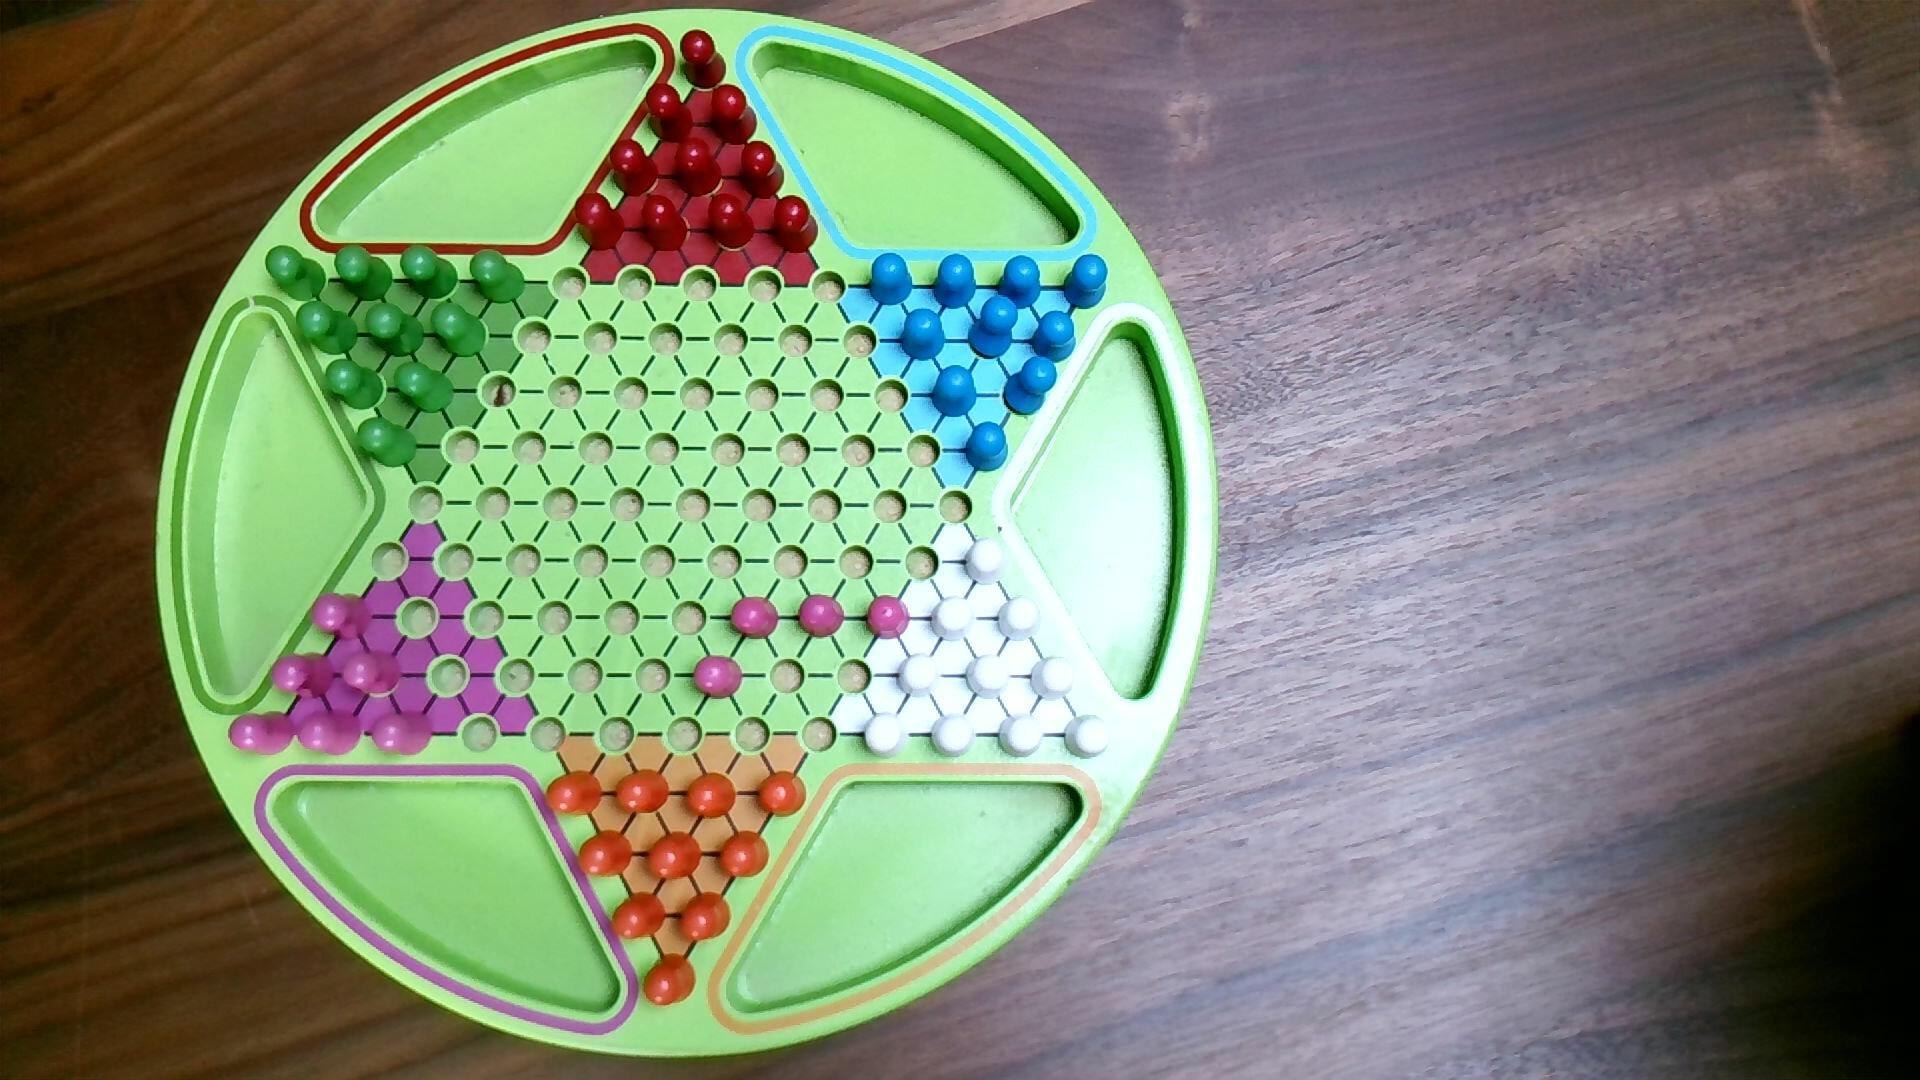B: (1001, 355, 1060, 418), (965, 294, 1021, 361), (930, 253, 978, 313), (1062, 253, 1110, 313), (898, 307, 949, 363), (928, 364, 978, 419), (961, 419, 1011, 475), (996, 255, 1044, 311), (1029, 310, 1077, 367), (868, 251, 915, 309)
G: (264, 244, 328, 305), (294, 301, 361, 357), (400, 243, 462, 303), (363, 301, 427, 359), (334, 244, 394, 305), (429, 301, 489, 360), (355, 415, 419, 469), (392, 361, 456, 415), (324, 357, 386, 413), (469, 249, 527, 306)
O: (644, 829, 705, 884), (640, 952, 699, 1007), (676, 890, 735, 944), (576, 829, 636, 881), (609, 890, 669, 942), (613, 767, 673, 818), (545, 769, 605, 818), (716, 829, 771, 881), (683, 771, 738, 822), (756, 770, 808, 820)
R: (669, 136, 725, 200), (574, 189, 626, 255), (644, 80, 696, 145), (708, 82, 760, 148), (637, 193, 691, 255), (608, 137, 661, 200), (705, 190, 758, 253), (679, 26, 728, 92), (771, 194, 822, 256), (738, 138, 787, 202)
R2: (310, 591, 376, 644), (295, 708, 364, 758), (228, 709, 297, 758), (369, 709, 435, 760), (270, 651, 336, 702), (342, 647, 405, 698), (691, 654, 746, 702), (864, 593, 913, 642), (796, 593, 847, 640), (731, 596, 781, 642)
W: (1063, 713, 1114, 762), (928, 595, 978, 644), (996, 595, 1044, 645), (963, 535, 1009, 588), (895, 651, 944, 700), (928, 712, 978, 760), (996, 713, 1046, 761), (862, 711, 909, 761), (1029, 655, 1076, 703), (964, 654, 1011, 702)
